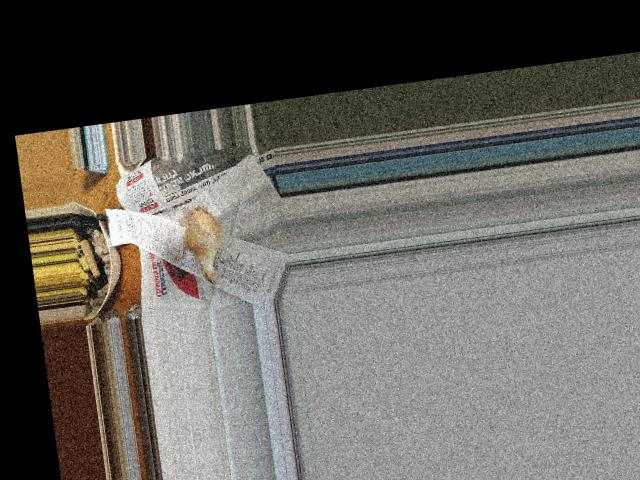onion: (180, 209, 223, 264)
